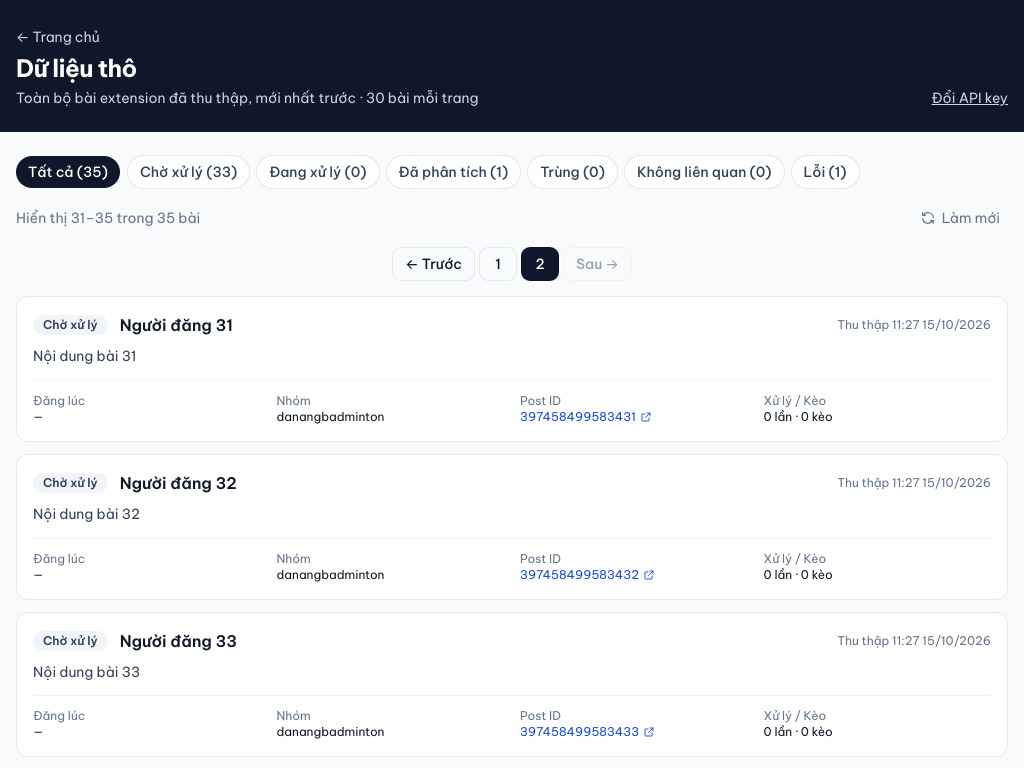
Test: RawPostsPage › filters by status and goes back to page 1
Expected: the text "Hiển thị 31–35 trong 35 bài" is shown, x1=16 y1=208 x2=200 y2=228
Click the button "Lỗi (1)" at (825, 172), box x1=792 y1=156 x2=859 y2=188
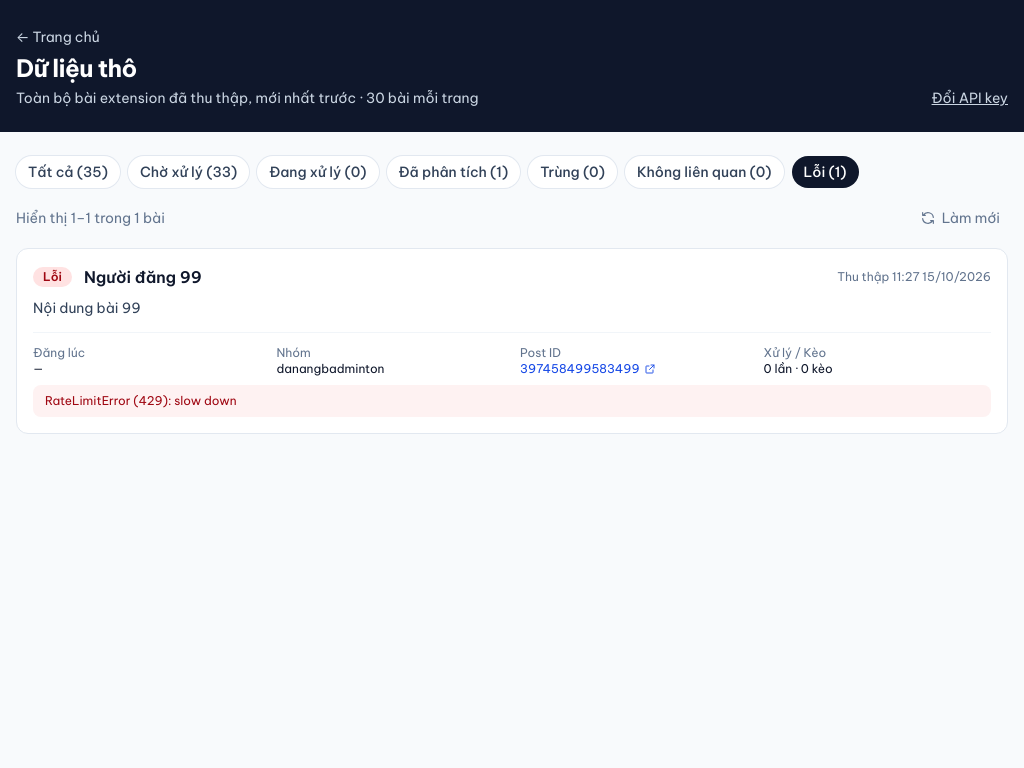
Expected: the text "RateLimitError (429): slow down" is shown, x1=33 y1=385 x2=991 y2=417
